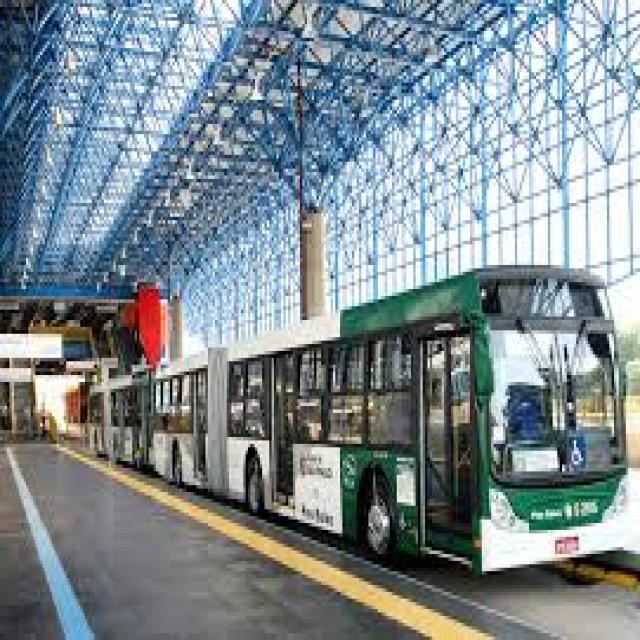AB: (151, 251, 633, 585)
